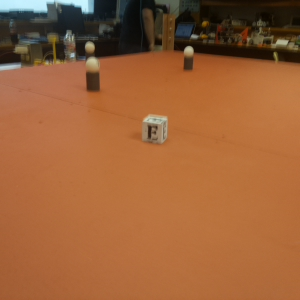blockE: (141, 115, 169, 146)
corner: (162, 14, 175, 53)
obstacle: (85, 59, 102, 94), (184, 47, 195, 71), (85, 41, 96, 55)
